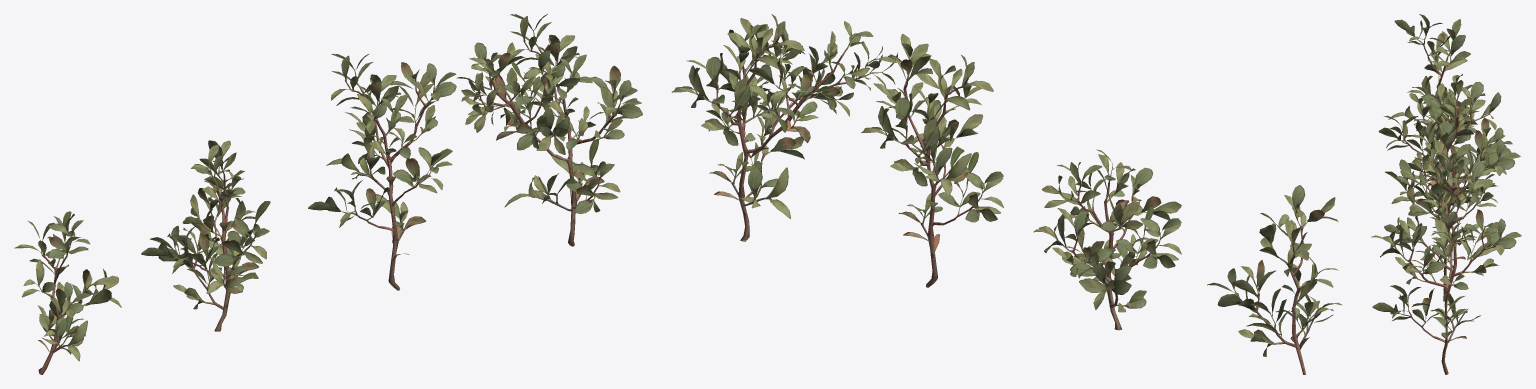
File: shrub_04.glb
The picture shows the model from 3 angles, left to right: view 1: azimuth 30°, elevation 25°; view 2: azimuth 150°, elevation 25°; view 3: azimuth 270°, elevation 25°; orthographic projection. The views are drawn at different scales.
Visible parts, largest first — view 1: shrub_04; view 2: shrub_04; view 3: shrub_04.
Boxes of the visible parts, x1=… form: shrub_04: x1=14, y1=14, x2=642, y2=374; shrub_04: x1=671, y1=14, x2=1341, y2=374; shrub_04: x1=1371, y1=14, x2=1521, y2=374.
Bounding box in the file's own units: 0.5837 × 0.2192 × 0.146.
Materials: 1 (1 with a texture image).
